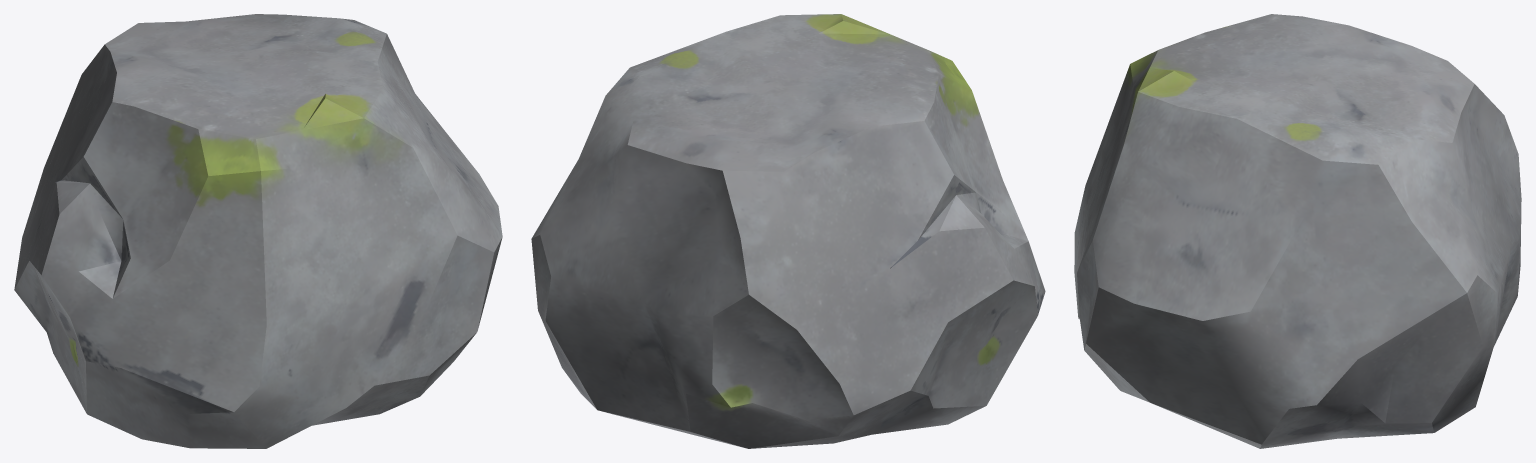
Rendered from rock_lod0.glb.
3 renders of one model, left to right at view 1: azimuth 30°, elevation 25°; view 2: azimuth 150°, elevation 25°; view 3: azimuth 270°, elevation 25°, orthographic. The views are drawn at different scales.
Parts seen in each view (by area): view 1: low; view 2: low; view 3: low.
Part boxes in pixels (x1,y1,x2,y2): low: [14, 14, 502, 448]; low: [531, 14, 1045, 448]; low: [1074, 14, 1521, 448].
Size of the model in its own units: 1 by 0.7284 by 0.9256.
1 material, 1 textured.
